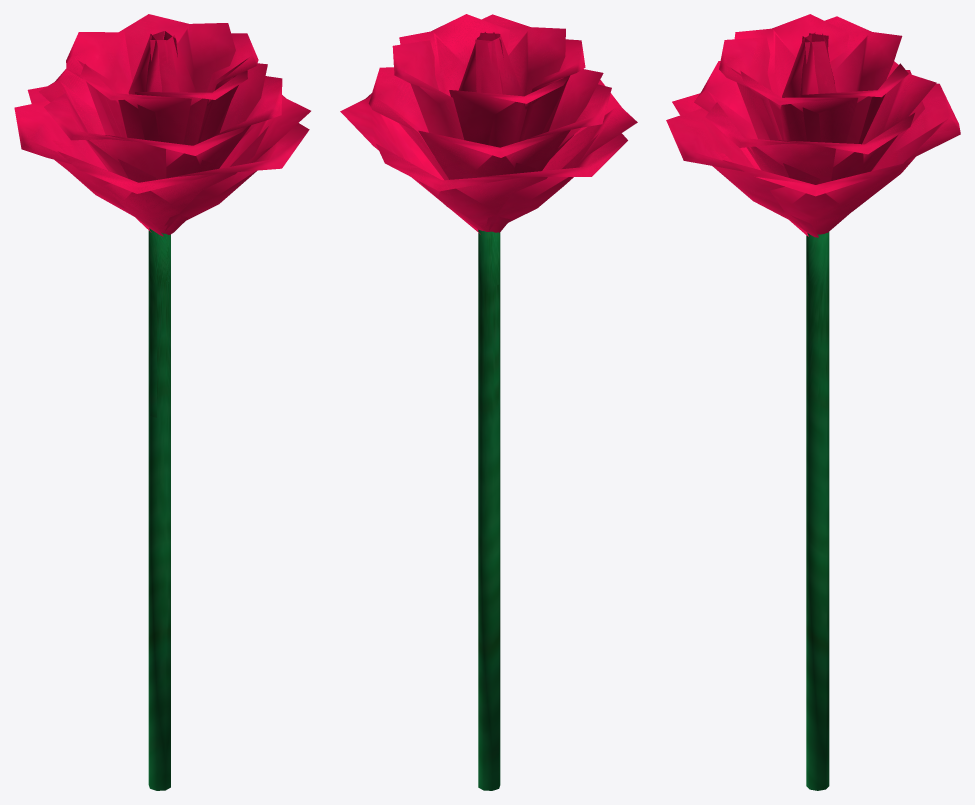
File: Rose.fbx
The picture shows the model from 3 angles, left to right: view 1: azimuth 30°, elevation 25°; view 2: azimuth 150°, elevation 25°; view 3: azimuth 270°, elevation 25°; orthographic projection.
Visible parts, largest first — view 1: Cylinder; view 2: Cylinder; view 3: Cylinder.
Part boxes in pixels (x1,y1,x2,y2): Cylinder: (14, 14, 310, 790); Cylinder: (340, 14, 637, 790); Cylinder: (666, 14, 960, 790).
Size of the model in its own units: 0.4637 by 1.31 by 0.4659.
5 materials, 5 textured.
